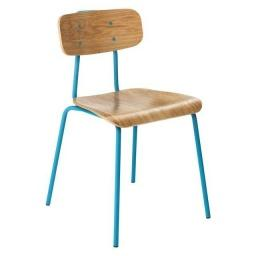Chair: (48, 10, 211, 248)
